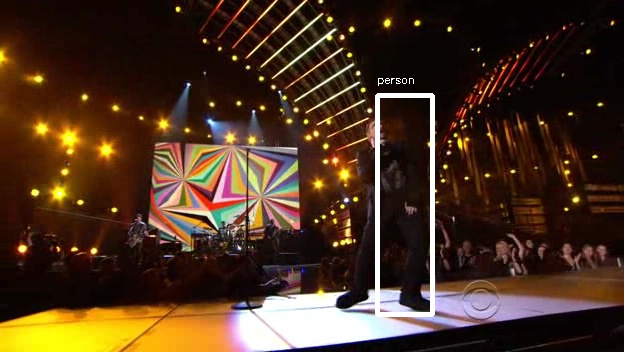person: (356, 119, 424, 232), (353, 119, 421, 232), (359, 119, 427, 232), (356, 116, 424, 229), (356, 122, 424, 235)
target_negative: (142, 74, 437, 267), (46, 46, 131, 189), (382, 41, 607, 77), (53, 291, 133, 341), (297, 213, 448, 239), (58, 180, 79, 229)
